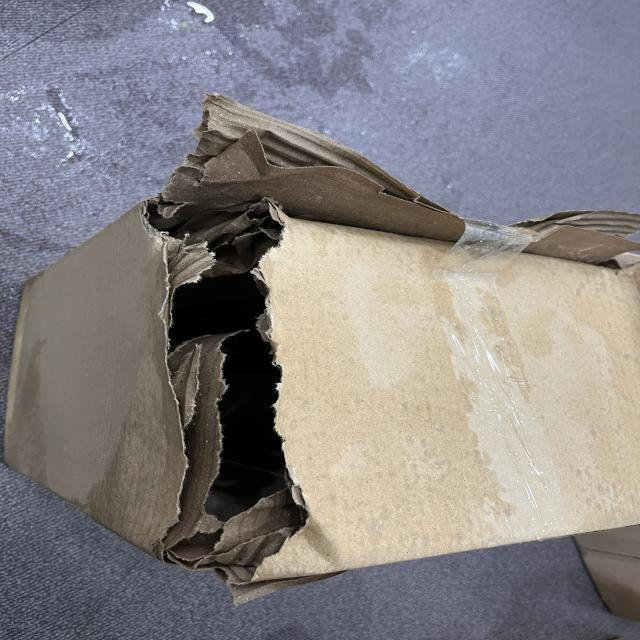hole: (147, 195, 330, 571)
